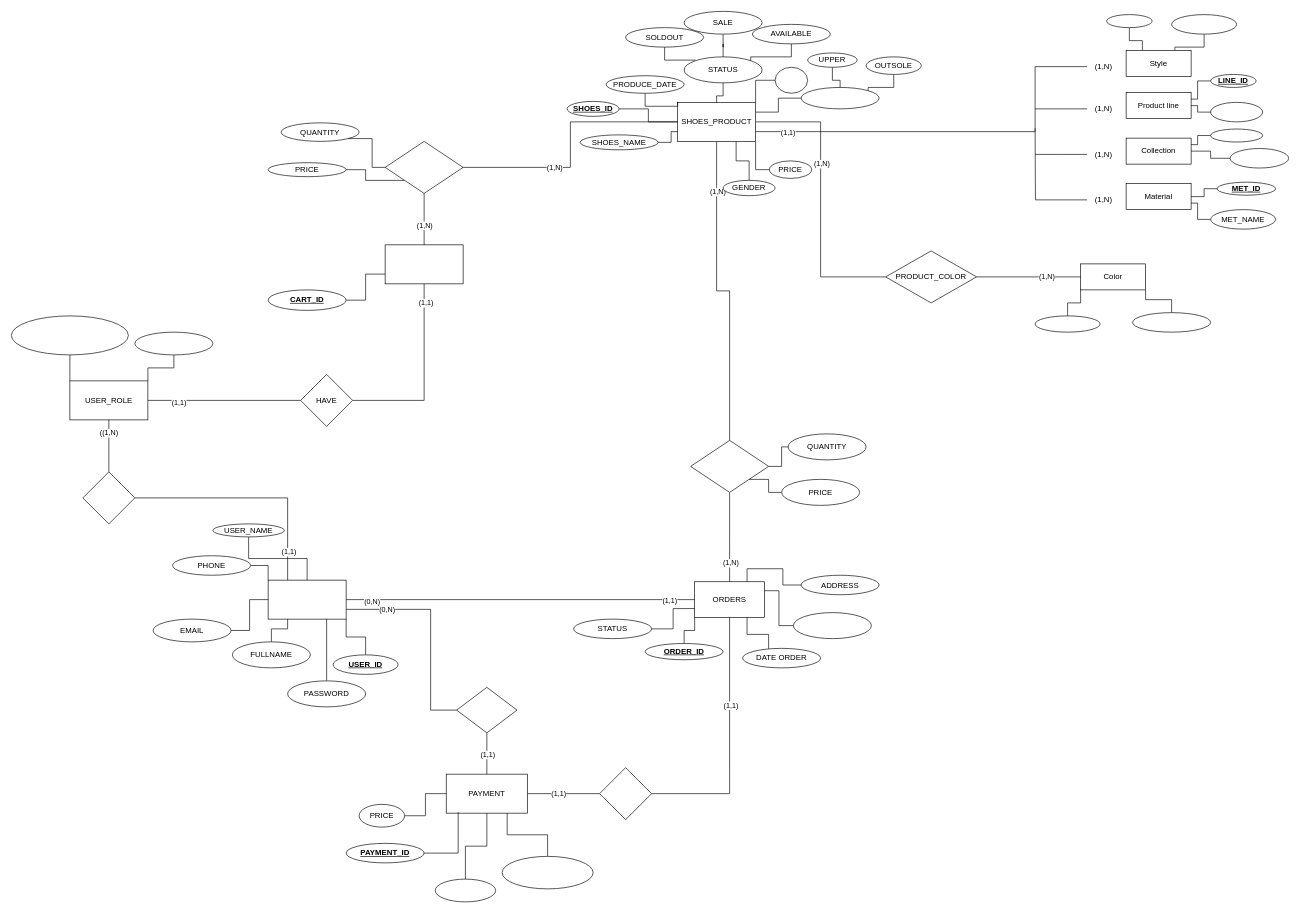
This 1300x913 diagram has some shape labels left out. The shapes that lost their labels are listed below. From the top down, each one's centre as x and y in pixels, then its label:
the point at 1129,21: STYLE_ID
the point at 1204,24: STYLE_NAME
the point at 791,80: SIZE
the point at 839,98: DESCRIPTION
the point at 1236,112: LINE_NAME
the point at 1236,135: COLL_ID
the point at 423,167: CART_DETAIL
the point at 1259,158: COLL_NAME
the point at 423,264: CART
the point at 69,335: ROLE (USER, ADMIN)
the point at 1067,323: COLOR_ID
the point at 1171,322: COLOR_NAME
the point at 173,343: USER_ROLE_ID
the point at 729,466: ORDER DETAIL
the point at 108,497: ASSIGN
the point at 306,599: USER
the point at 832,625: TOTAL_PRICE
the point at 486,710: DO
the point at 625,793: PAY
the point at 465,890: DATE
the point at 547,872: METHOD_PAYMENT
